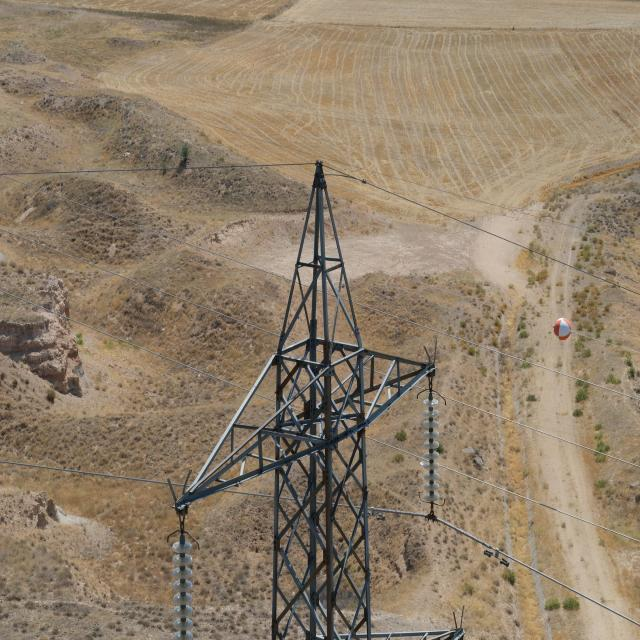sag_alt: (267, 163, 376, 640)
